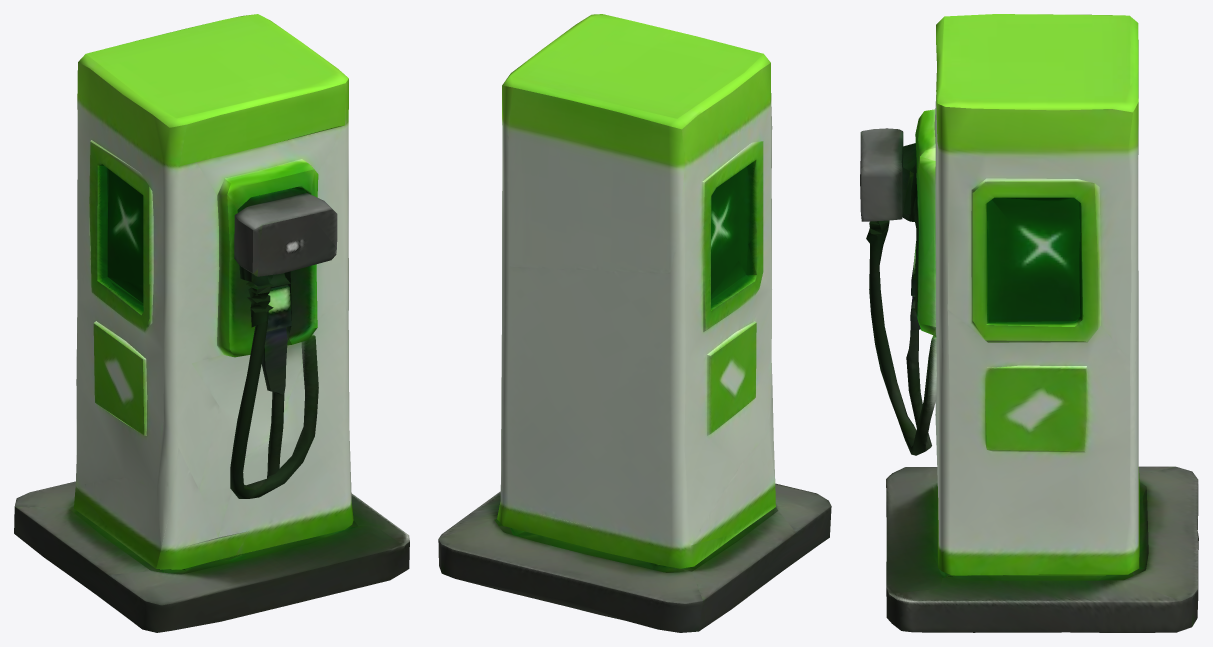
File: chargingStation.glb
The picture shows the model from 3 angles, left to right: view 1: azimuth 30°, elevation 25°; view 2: azimuth 150°, elevation 25°; view 3: azimuth 270°, elevation 25°; orthographic projection. The views are drawn at different scales.
Parts seen in each view (by area): view 1: model; view 2: model; view 3: model.
Boxes of the visible parts, bbox=[...] form: model: bbox=[14, 14, 409, 632]; model: bbox=[438, 14, 831, 632]; model: bbox=[860, 14, 1198, 632].
Size of the model in its own units: 1.09 by 1.9 by 1.15.
1 material, 1 textured.
